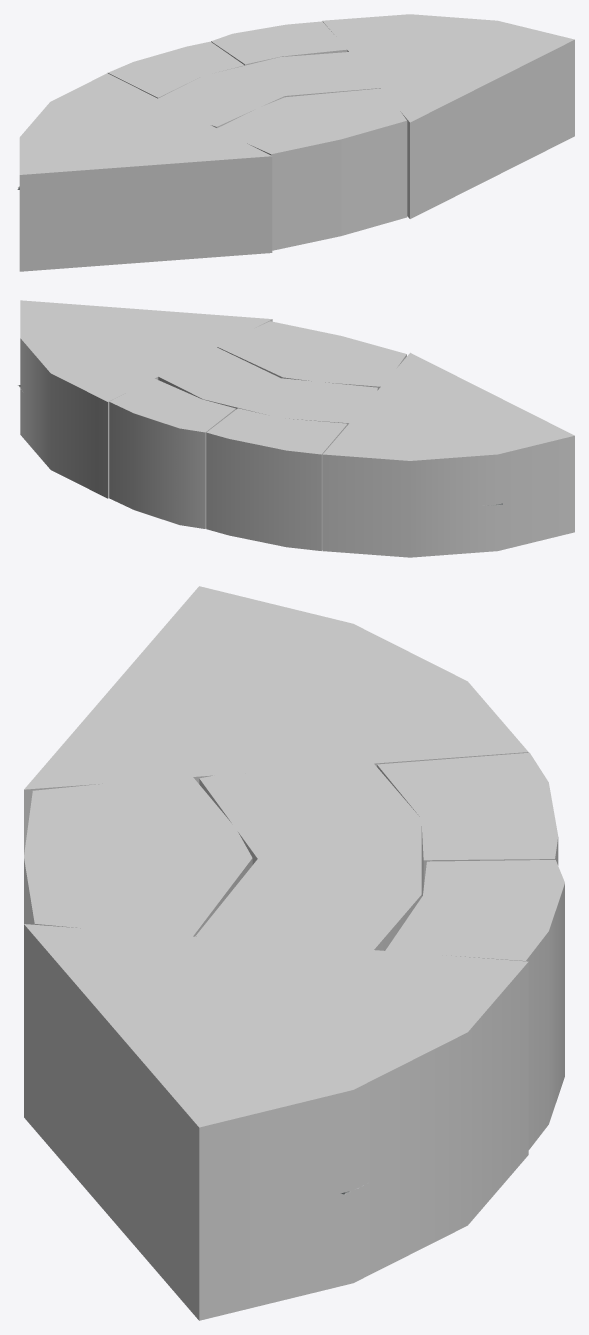
File: BackRadarCollider.FBX
3 renders of one model, top to bottom at view 1: azimuth 30°, elevation 25°; view 2: azimuth 150°, elevation 25°; view 3: azimuth 270°, elevation 25°, orthographic. The views are drawn at different scales.
Visible parts, largest first — view 1: right, left, backnear, backmiddle, backRight, backLeft; view 2: right, left, backRight, backLeft, backmiddle, backnear; view 3: left, right, backmiddle, backnear, backLeft, backRight.
Boxes of the visible parts, x1,y1,x2,y2 form: right: (19,73,272,271); left: (322,14,574,218); backnear: (217,88,407,250); backmiddle: (158,51,379,127); backRight: (108,41,244,98); backLeft: (211,21,347,65); right: (322,352,574,557); left: (20,300,272,498); backRight: (206,408,347,550); backLeft: (109,378,235,528); backmiddle: (146,347,377,424); backnear: (216,321,406,389); left: (24,924,528,1320); right: (24,586,528,854); backmiddle: (195,763,421,963); backnear: (24,777,252,937); backLeft: (385,860,564,1149); backRight: (377,752,558,896).
Bounding box in the file's own units: 250 × 41.61 × 106.
Materials: 1 (1 with a texture image).
